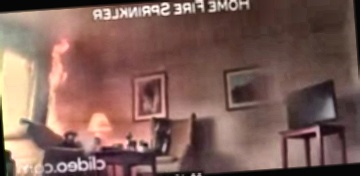fire: (31, 30, 92, 140)
